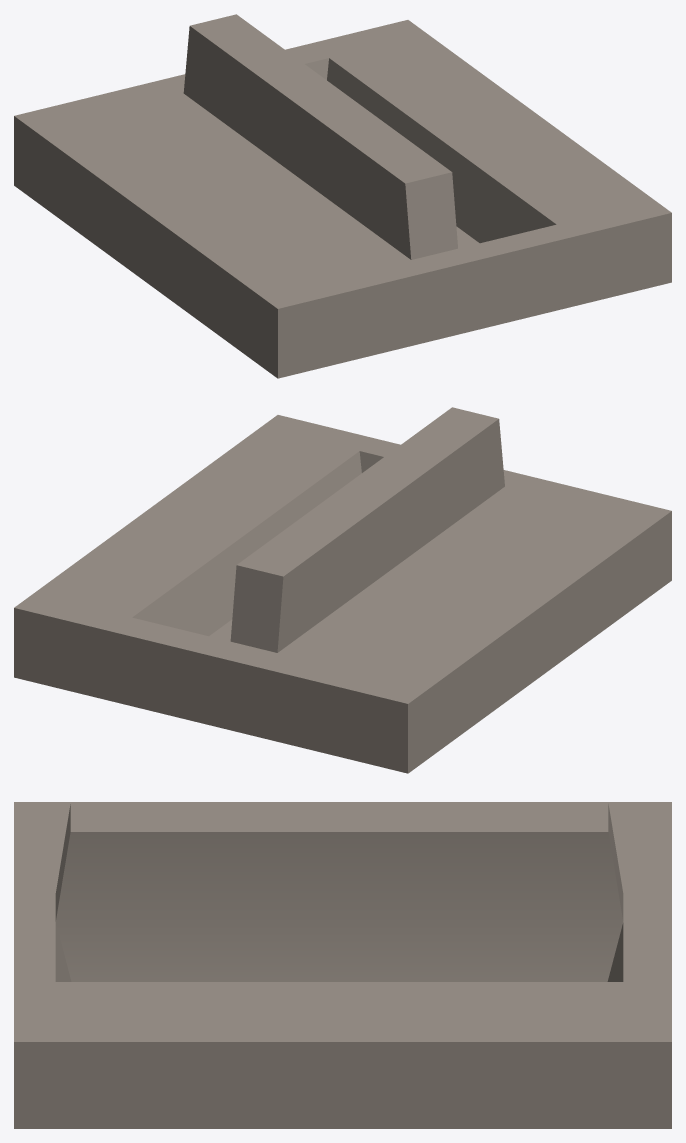
The model's file is bent_normal_test.gltf.
3 views of the same model, one above another, from view 1: azimuth 30°, elevation 25°; view 2: azimuth 150°, elevation 25°; view 3: azimuth 270°, elevation 25° (orthographic). The views are drawn at different scales.
Visible parts, largest first — view 1: bent_normal_low; view 2: bent_normal_low; view 3: bent_normal_low.
Boxes of the visible parts, bbox=[...] form: bent_normal_low: bbox=[14, 14, 671, 378]; bent_normal_low: bbox=[14, 407, 671, 773]; bent_normal_low: bbox=[14, 802, 671, 1128].
Size of the model in its own units: 0.01 by 0.00344 by 0.0116.
1 material, 1 textured.
